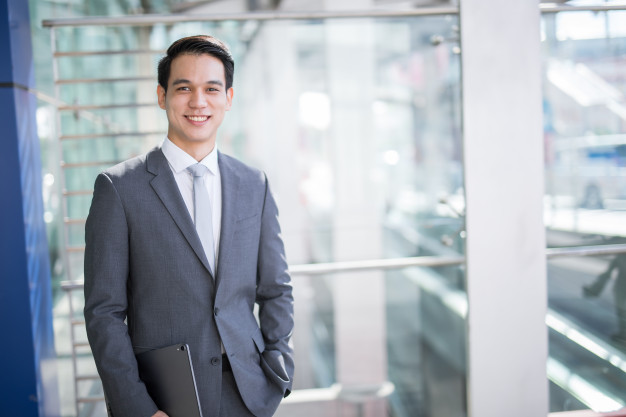bare: (167, 96, 226, 138)
